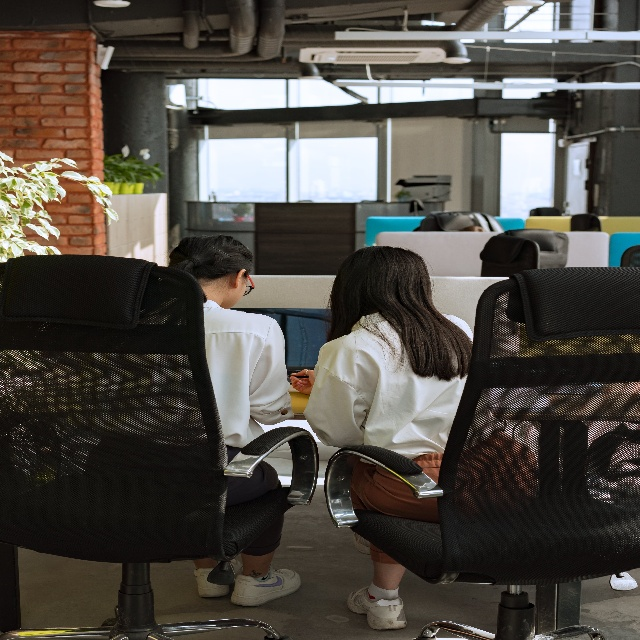Gafas: (244, 272, 256, 297)
Sin_guantes: (289, 367, 314, 395)
